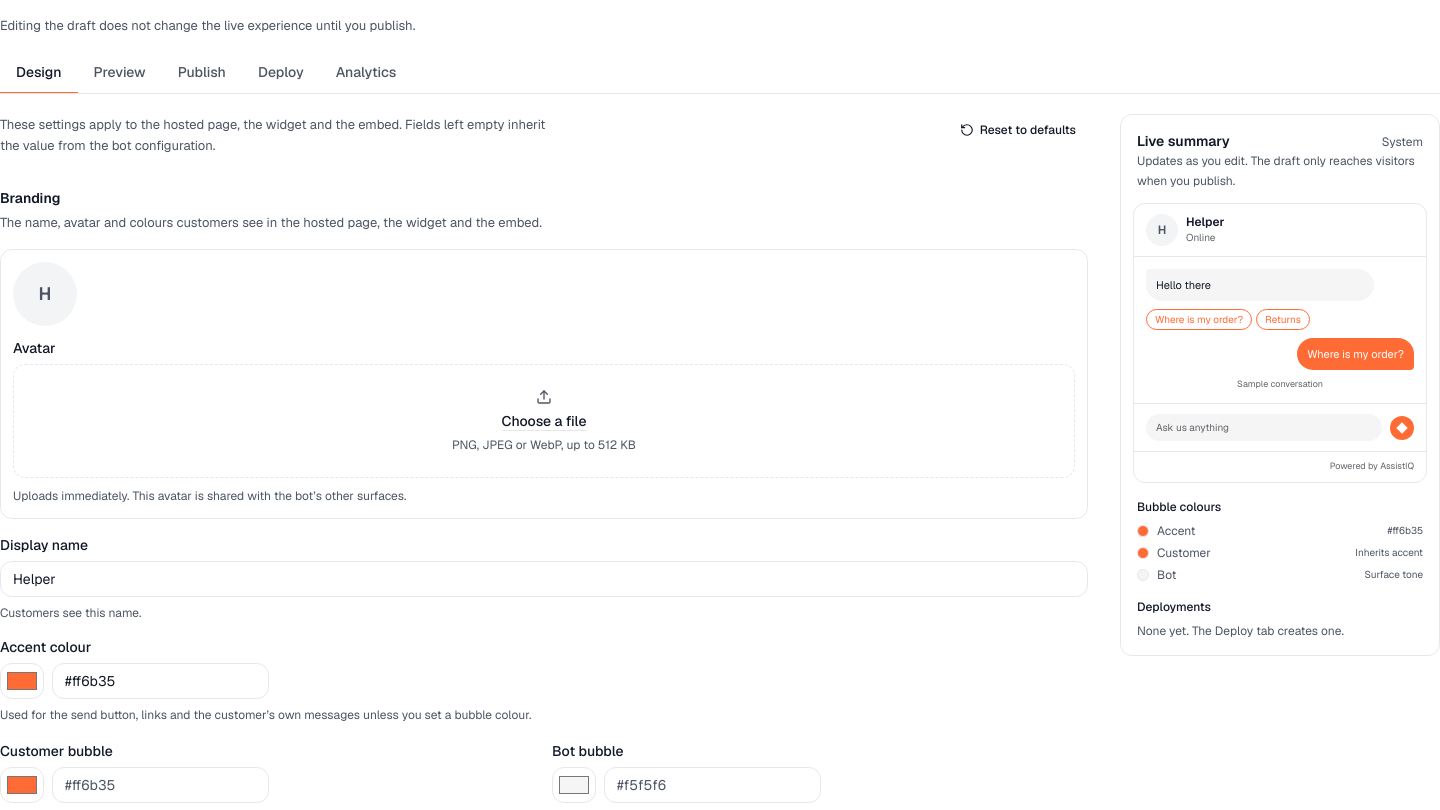
Experience Design tab › returns every field to the platform defaults after confirmation
Type "Support" into the field labelled "Display name" at coordinates (544, 579), box [0,561,1088,597]
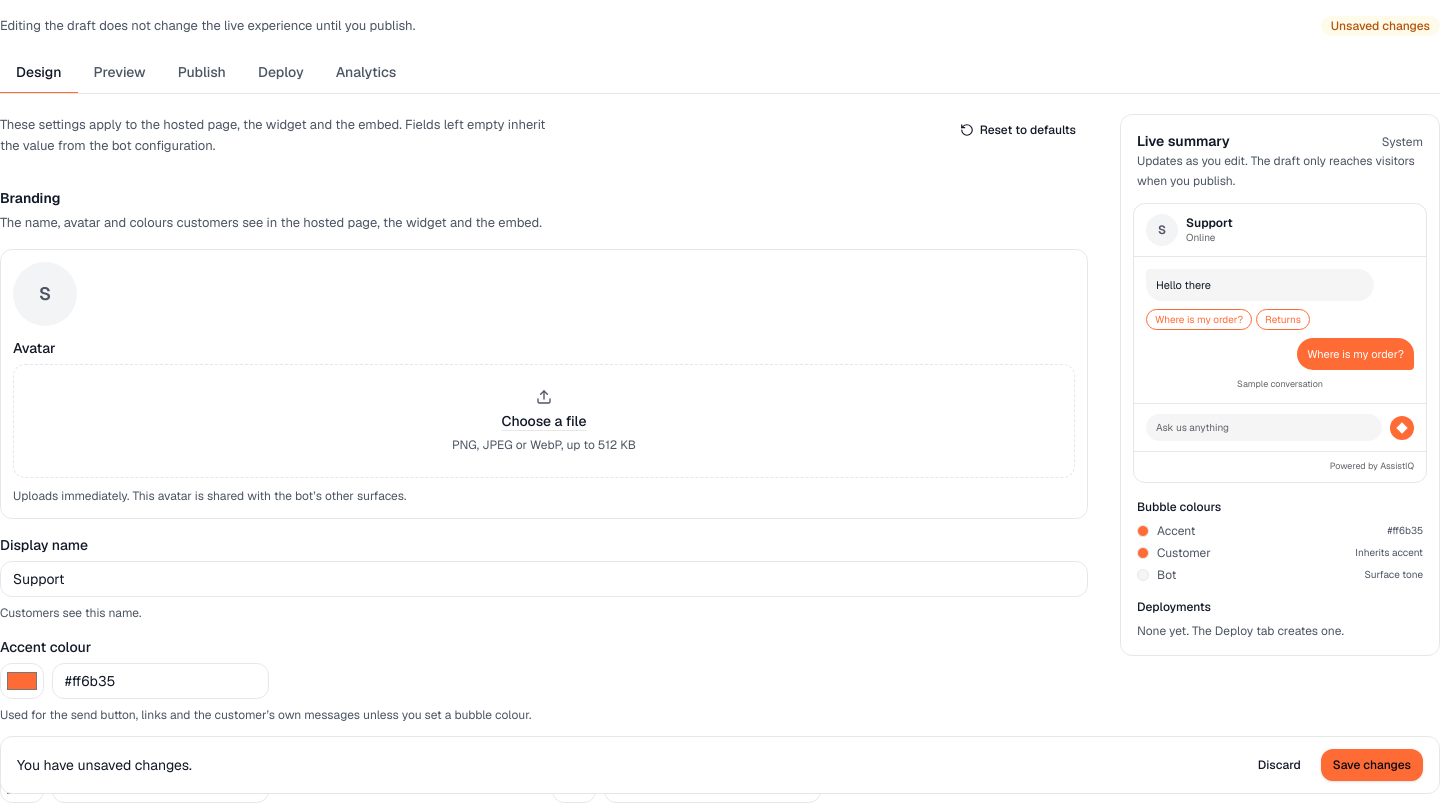
Click the button "Reset to defaults" at coordinates (1018, 130), box [948,114,1088,146]
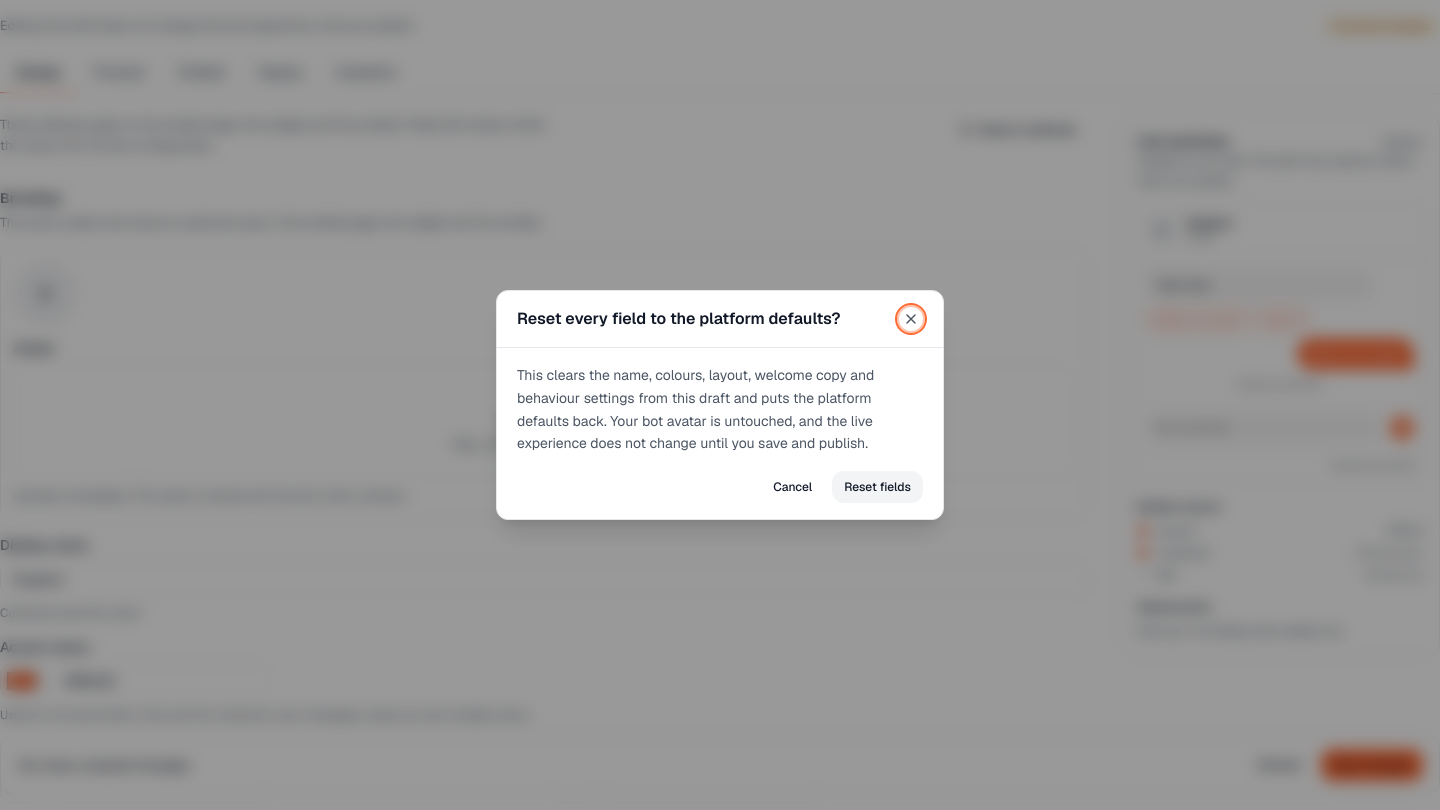
Expected: the text "live experience does not change" is shown, [517,366,874,452]
Click the button "Reset fields" at coordinates (878, 487), box [832,471,923,503]
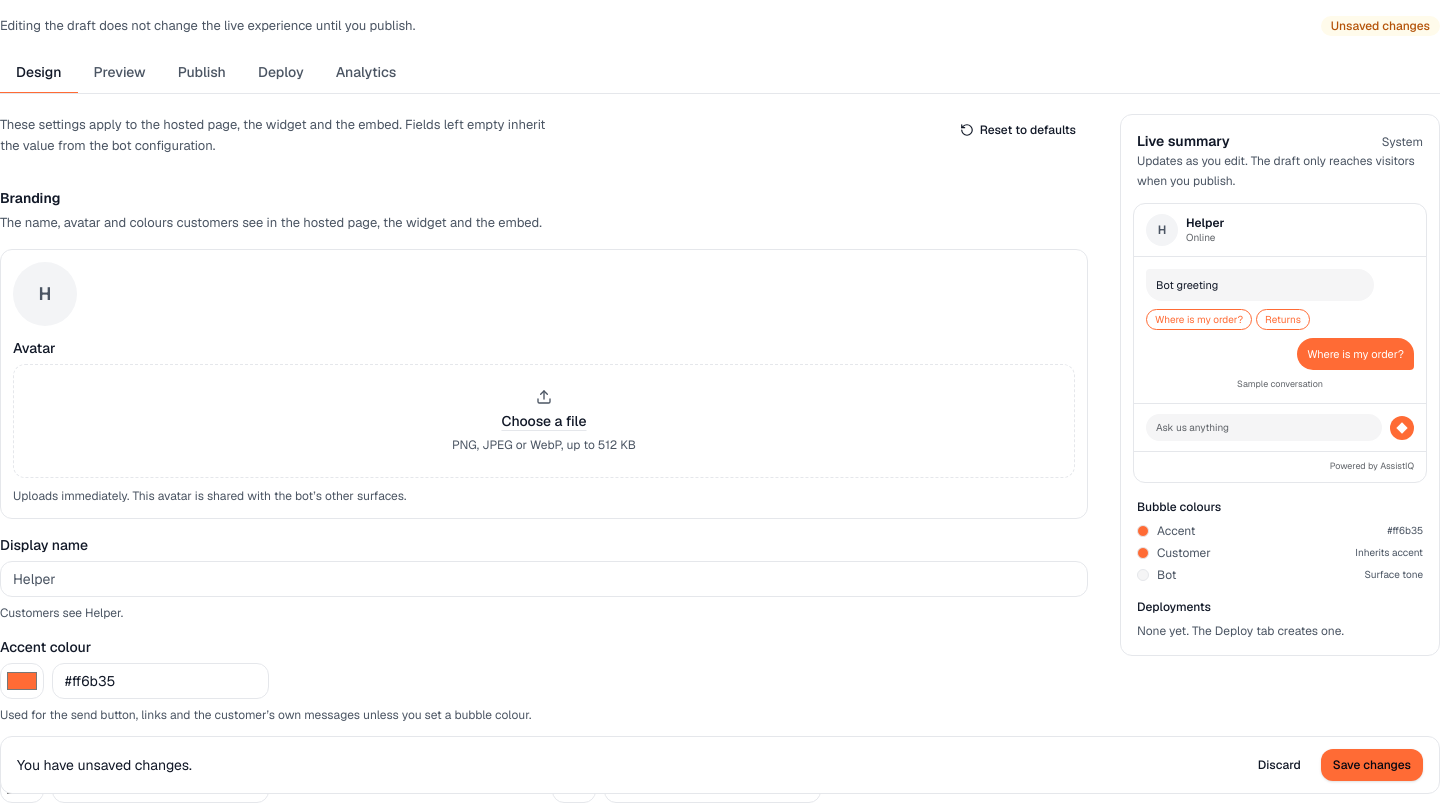
Expected: the field labelled "Accent colour" holds "#ff6b35", [52,663,269,699]
Expected: the text "Unsaved changes" is shown, [1321,16,1439,36]
Expected: the field labelled "Display name" is empty, [0,561,1088,597]
